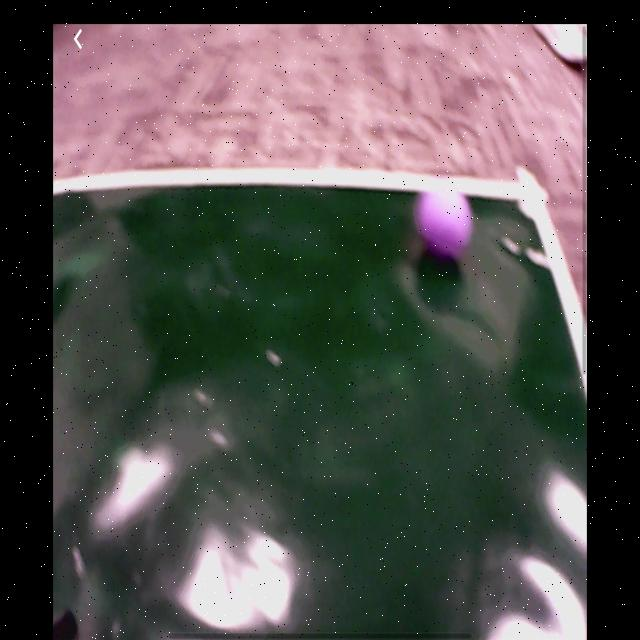ball: (414, 187, 476, 262)
